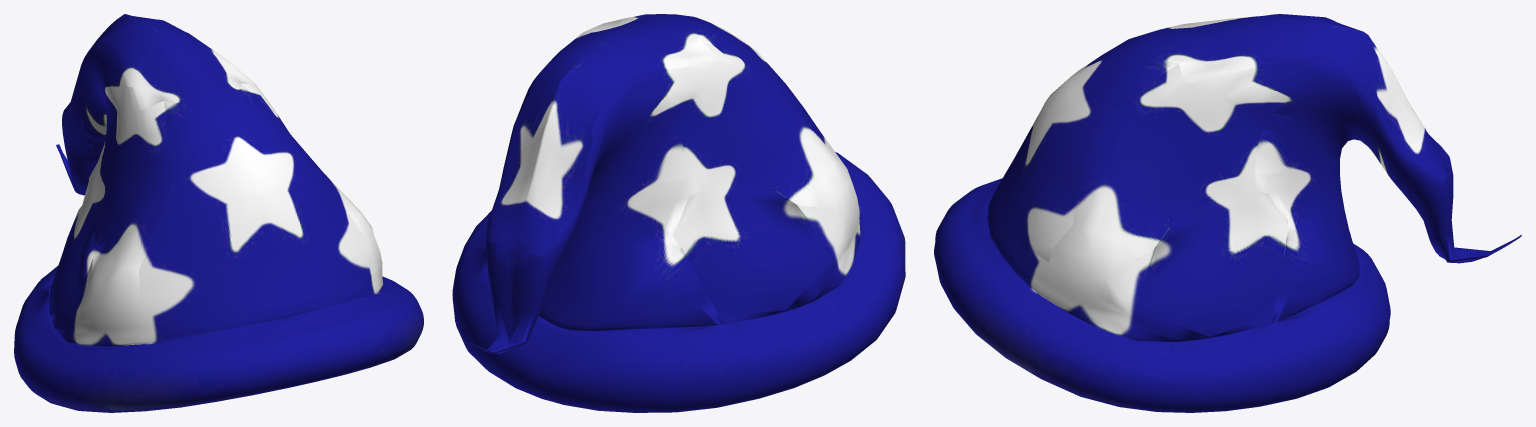
File: Wizard-Blue.glb
The picture shows the model from 3 angles, left to right: view 1: azimuth 30°, elevation 25°; view 2: azimuth 150°, elevation 25°; view 3: azimuth 270°, elevation 25°; orthographic projection. The views are drawn at different scales.
Parts seen in each view (by area): view 1: Wizard-Blue; view 2: Wizard-Blue; view 3: Wizard-Blue.
Part boxes in pixels (box(x1,y1,x2,y2)): Wizard-Blue: box(14, 14, 423, 412); Wizard-Blue: box(452, 14, 905, 412); Wizard-Blue: box(934, 14, 1521, 412).
Size of the model in its own units: 0.4899 by 0.3901 by 0.6449.
Materials: 1 (1 with a texture image).
